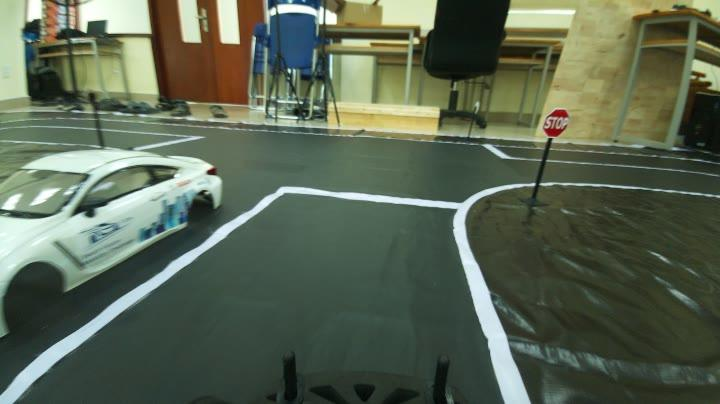car: (2, 106, 224, 336)
stop: (534, 104, 574, 144)
